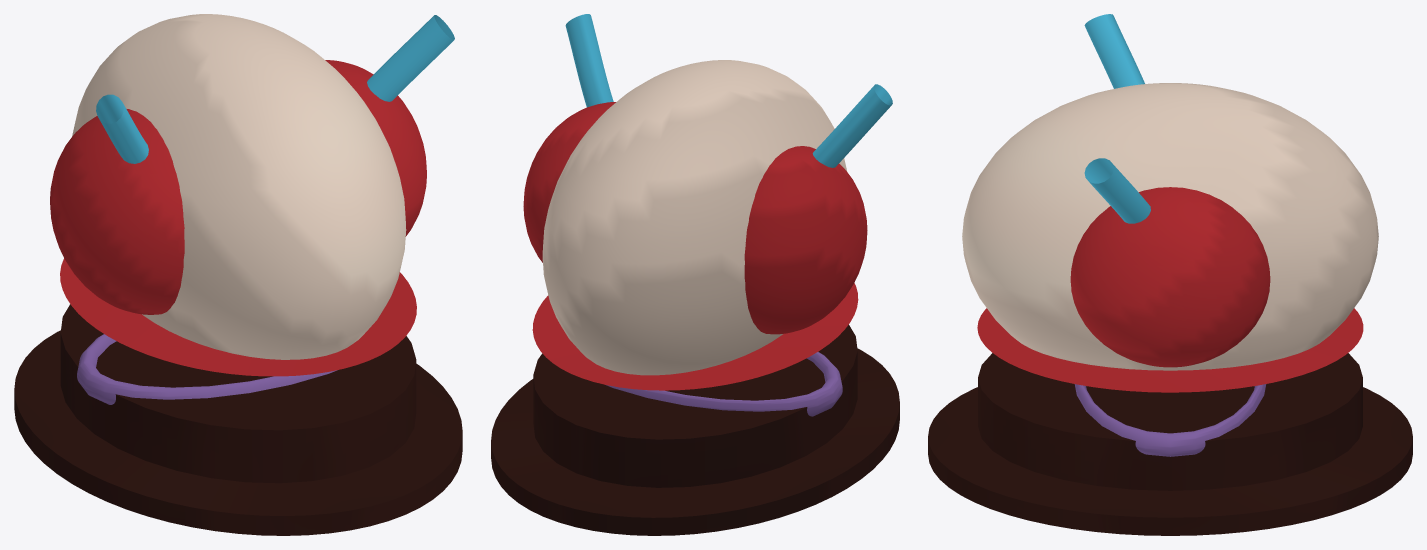
File: 0174_人体图鉴_眼睛.glb
3 renders of one model, left to right at view 1: azimuth 30°, elevation 25°; view 2: azimuth 150°, elevation 25°; view 3: azimuth 270°, elevation 25°, orthographic. The views are drawn at different scales.
Visible parts, largest first — view 1: card_0174; view 2: card_0174; view 3: card_0174.
Boxes of the visible parts, x1,y1,x2,y2 form: card_0174: (14, 14, 462, 535); card_0174: (491, 14, 899, 535); card_0174: (928, 14, 1412, 535).
Bounding box in the file's own units: 0.9484 × 1 × 1.19.
